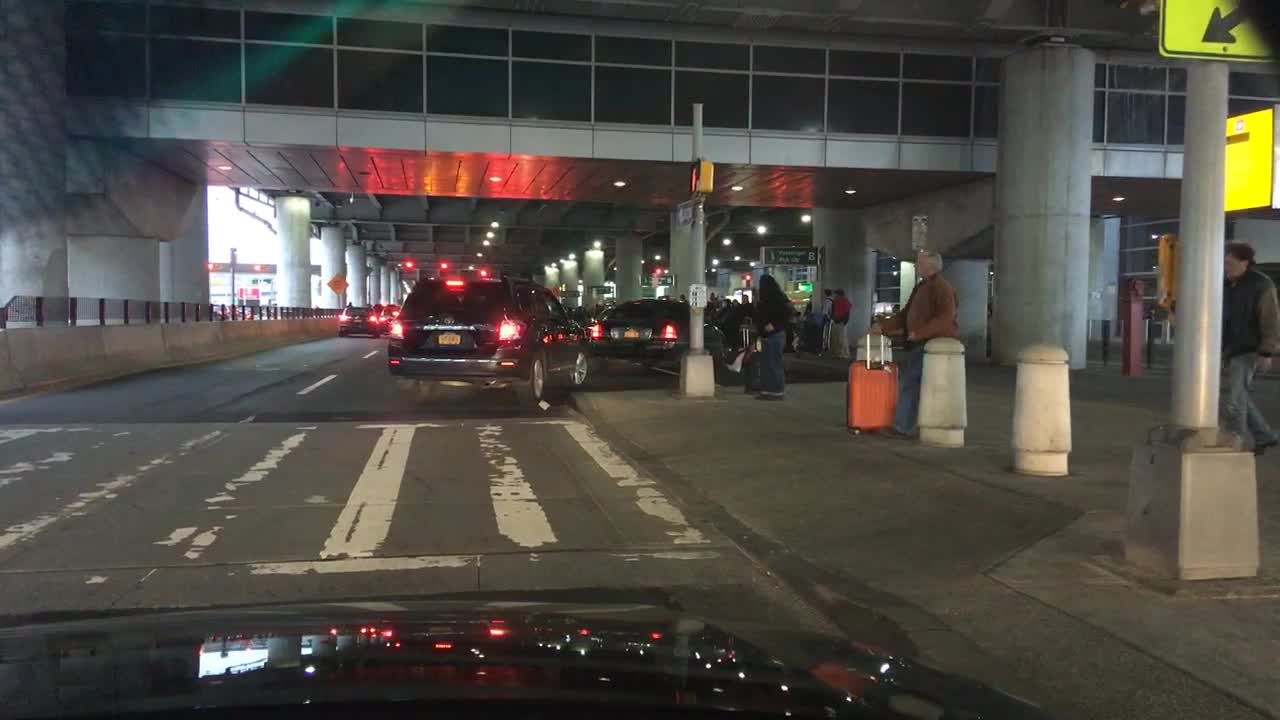car: (380, 275, 590, 404), (871, 245, 964, 437), (1217, 238, 1275, 453), (589, 298, 732, 373), (336, 303, 380, 339), (375, 305, 402, 334), (208, 301, 230, 320), (234, 307, 255, 321)
person: (744, 275, 801, 404), (817, 286, 832, 353), (735, 289, 751, 341), (787, 298, 799, 351), (701, 291, 715, 321), (713, 291, 726, 321), (722, 293, 734, 325), (563, 300, 574, 319), (574, 305, 586, 321)
traffic light: (686, 156, 716, 194), (401, 257, 417, 276), (473, 261, 490, 278), (434, 257, 450, 271)
traffic sign: (1158, 2, 1273, 62), (324, 271, 350, 292)
